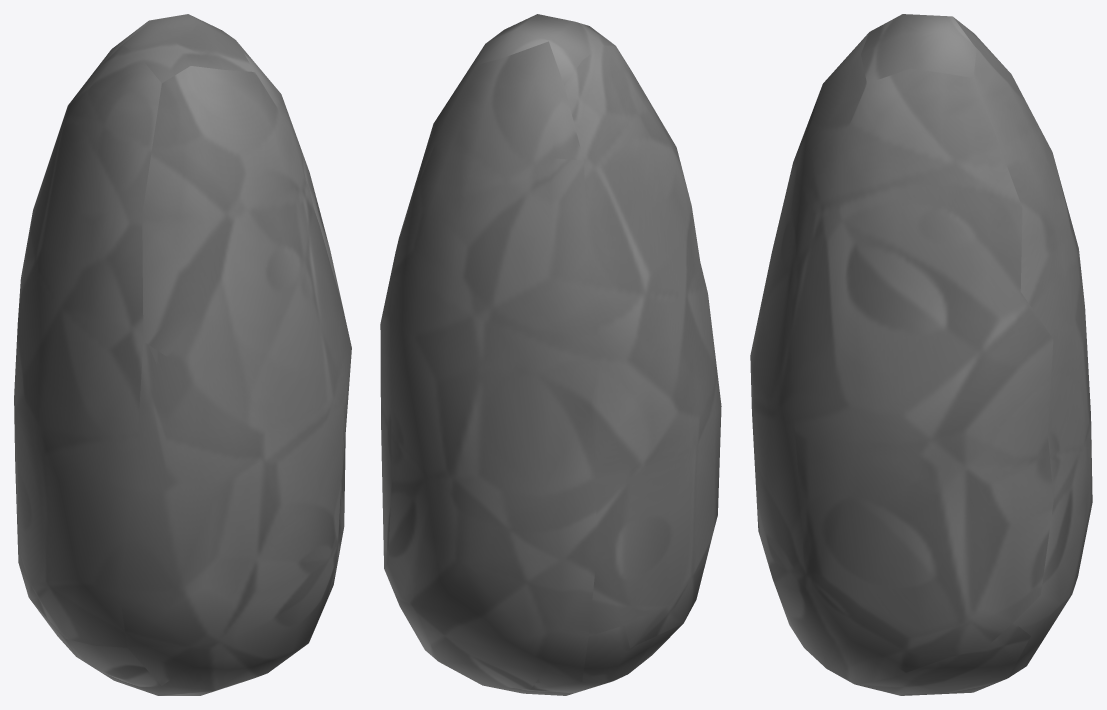
The model's file is m_EggBlue_LOD1.fbx.
3 renders of one model, left to right at view 1: azimuth 30°, elevation 25°; view 2: azimuth 150°, elevation 25°; view 3: azimuth 270°, elevation 25°, orthographic.
Visible parts, largest first — view 1: EggBlue_LOD1; view 2: EggBlue_LOD1; view 3: EggBlue_LOD1.
Part boxes in pixels (x1,y1,x2,y2): EggBlue_LOD1: [14, 14, 351, 695]; EggBlue_LOD1: [380, 14, 721, 695]; EggBlue_LOD1: [750, 14, 1092, 695].
Size of the model in its own units: 3760 by 7980 by 3789.
